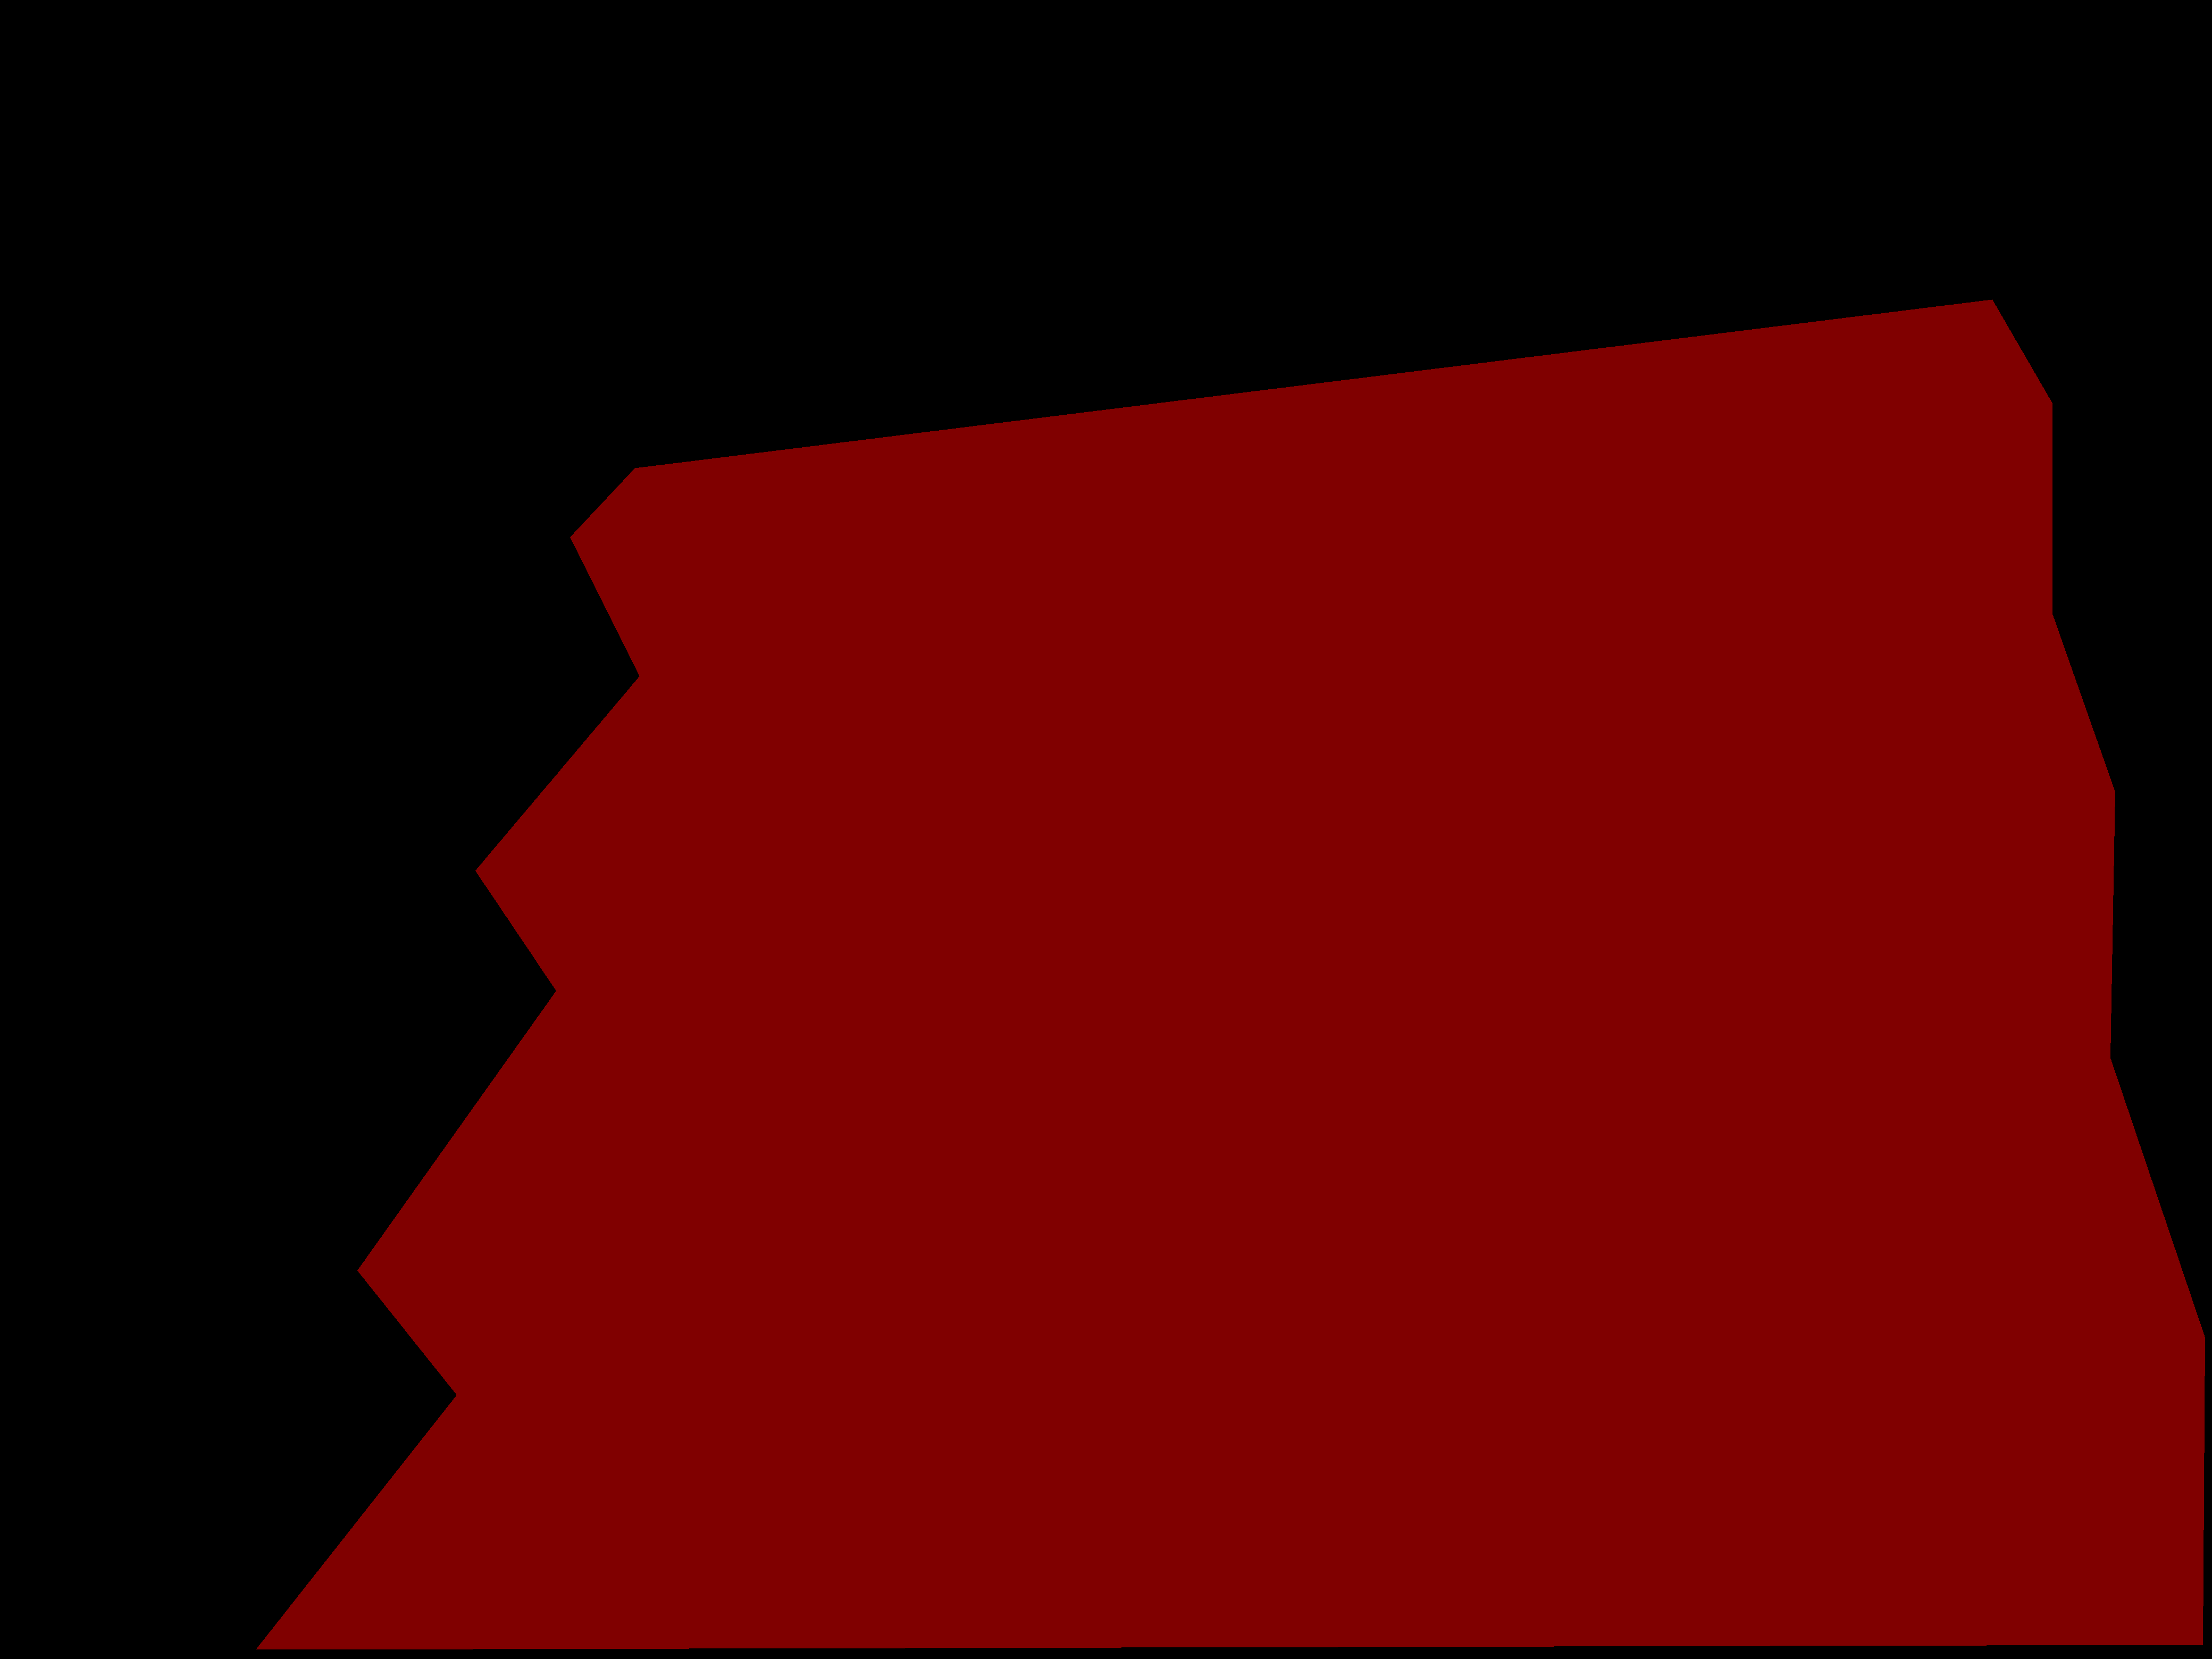stair: (256, 300, 2205, 1650)
